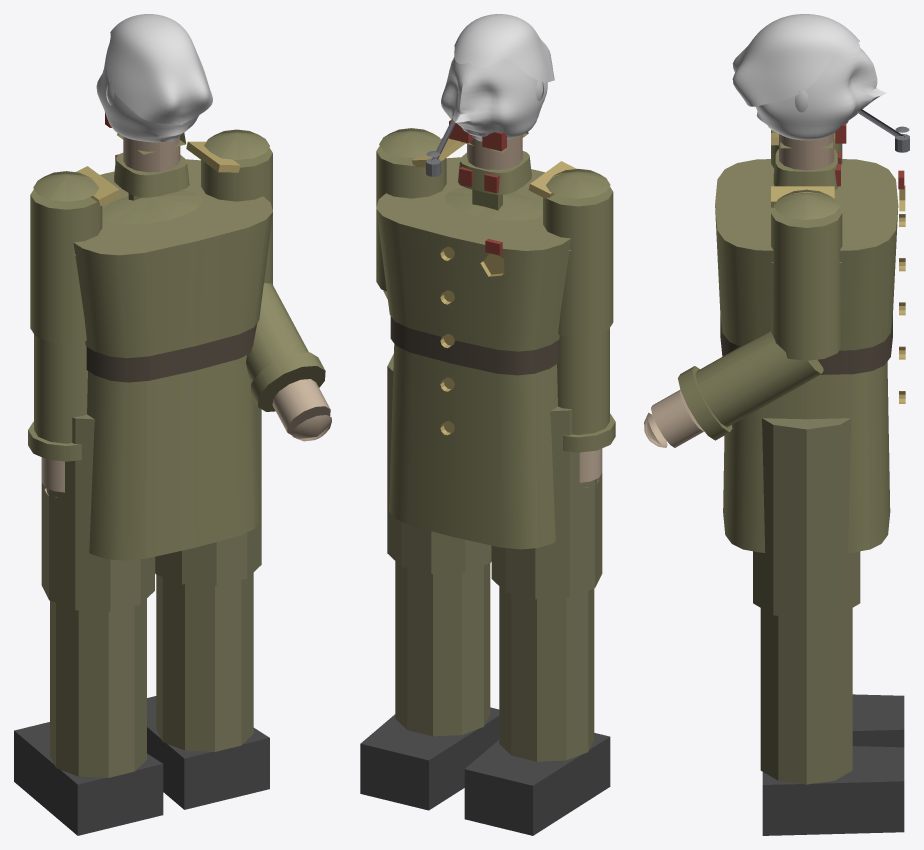
File: personality_elder.glb
3 views of the same model, side by side, from view 1: azimuth 30°, elevation 25°; view 2: azimuth 150°, elevation 25°; view 3: azimuth 270°, elevation 25° (orthographic). The views are drawn at different scales.
Visible parts, largest first — view 1: Tunic, Body, ShinRight, ShinLeft, LegLeft, ArmLeft, Hair, Boot, Boot.001, ForearmLeft, ForearmRight, LegRight (+9 smaller); view 2: Tunic, Body, ShinRight, ShinLeft, LegLeft, Boot, ArmLeft, Boot.001, Head, ForearmLeft, LegRight, Hair (+6 smaller); view 3: Body, LegRight, ShinRight, Tunic, ArmRight, Boot.001, ForearmRight, Hair, Head, Boot, HandRight, Belt (+3 smaller).
Boxes of the visible parts, <box> form: Tunic: <box>87,355,259,560</box>; Body: <box>73,159,272,358</box>; ShinRight: <box>156,572,253,751</box>; ShinLeft: <box>50,599,146,777</box>; LegLeft: <box>41,414,154,611</box>; ArmLeft: <box>30,171,102,343</box>; Hair: <box>106,14,212,124</box>; Boot: <box>14,722,163,835</box>; Boot.001: <box>147,696,269,809</box>; ForearmLeft: <box>28,334,87,461</box>; ForearmRight: <box>246,283,325,411</box>; LegRight: <box>155,404,261,585</box>; Tunic: <box>389,344,557,549</box>; Body: <box>376,157,571,351</box>; ShinRight: <box>395,561,490,736</box>; ShinLeft: <box>499,586,594,761</box>; LegLeft: <box>491,406,602,599</box>; Boot: <box>464,733,610,835</box>; ArmLeft: <box>543,168,613,337</box>; Boot.001: <box>360,707,499,810</box>; Head: <box>441,57,547,141</box>; ForearmLeft: <box>557,328,615,452</box>; LegRight: <box>387,353,491,573</box>; Hair: <box>454,14,554,82</box>; Body: <box>715,159,898,350</box>; LegRight: <box>753,418,860,619</box>; ShinRight: <box>760,608,852,784</box>; Tunic: <box>723,361,890,552</box>; ArmRight: <box>771,189,842,360</box>; Boot.001: <box>762,746,904,835</box>; ForearmRight: <box>678,331,823,440</box>; Hair: <box>732,14,860,106</box>; Head: <box>756,48,886,140</box>; Boot: <box>852,694,904,747</box>; HandRight: <box>644,390,703,447</box>; Belt: <box>720,314,892,374</box>.
Size of the model in its own units: 0.5558 by 1.74 by 0.5439.
